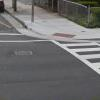Crosswalk: (38, 28, 100, 75)
